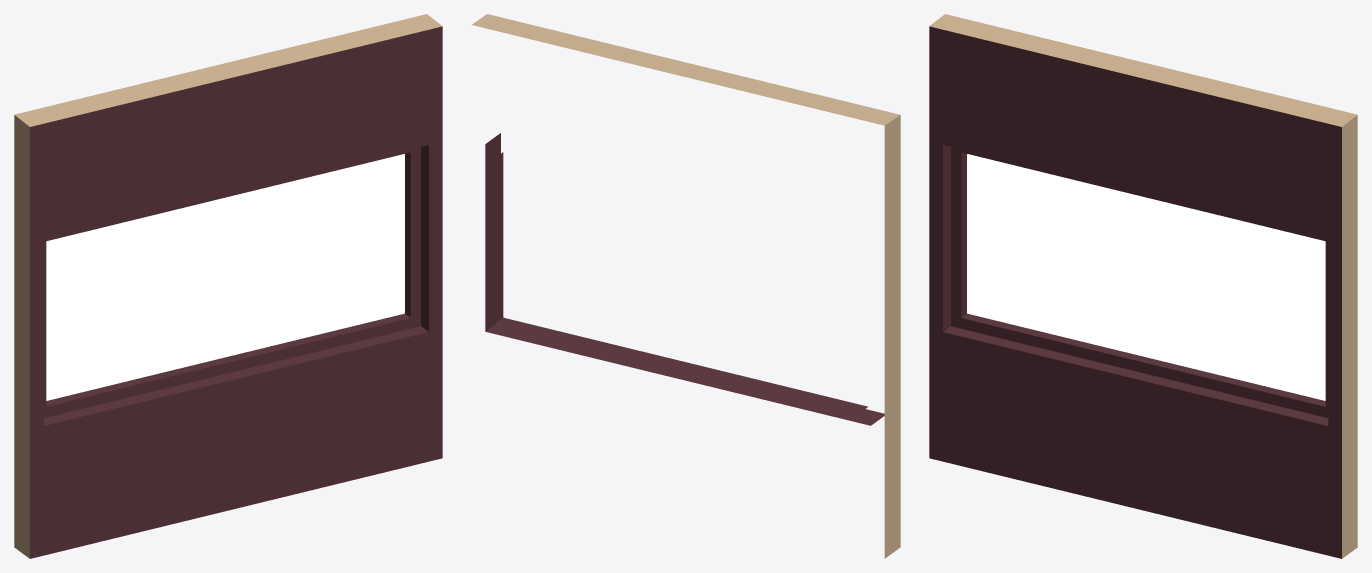
Rendered from buildings-house-wall-window-large-3x3m.glb.
The picture shows the model from 3 angles, left to right: view 1: azimuth 30°, elevation 25°; view 2: azimuth 150°, elevation 25°; view 3: azimuth 330°, elevation 25°; orthographic projection.
Visible parts, largest first — view 1: house-wall-window-large-3x3m; view 2: house-wall-window-large-3x3m; view 3: house-wall-window-large-3x3m.
Part boxes in pixels (bbox=[...]): house-wall-window-large-3x3m: bbox=[14, 14, 442, 558]; house-wall-window-large-3x3m: bbox=[472, 14, 900, 558]; house-wall-window-large-3x3m: bbox=[929, 14, 1357, 558].
Size of the model in its own units: 3 by 3.01 by 0.2.
